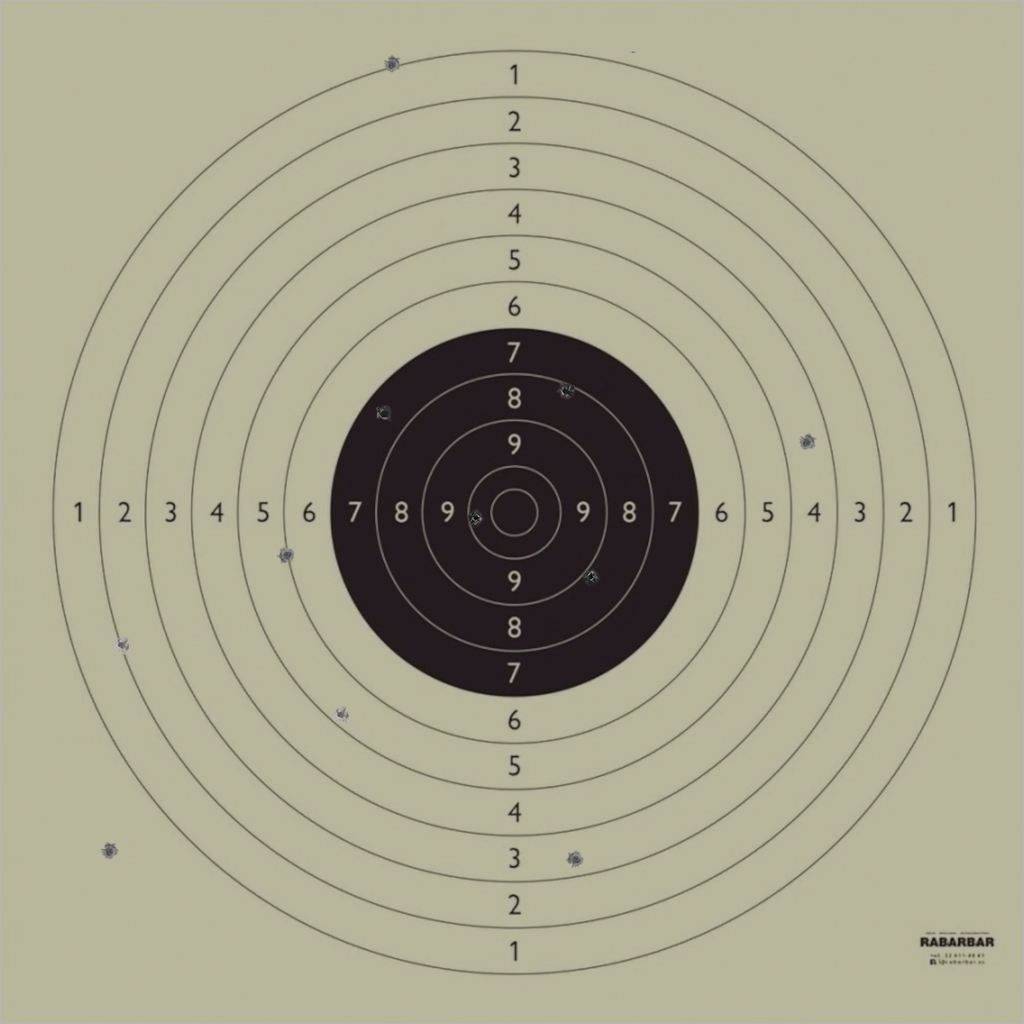0 punktow: (100, 842, 119, 861)
1 punkt: (383, 55, 401, 74)
10 punktow: (467, 509, 486, 527)
2 punkty: (113, 636, 131, 654)
3 punkty: (566, 850, 585, 869)
4 punkty: (798, 433, 816, 452)
5 punktow: (332, 705, 350, 724)
6 punktow: (278, 546, 296, 564)
7 punktow: (375, 405, 393, 423)
8 punktow: (557, 382, 575, 400)
9 punktow: (582, 567, 600, 586)
